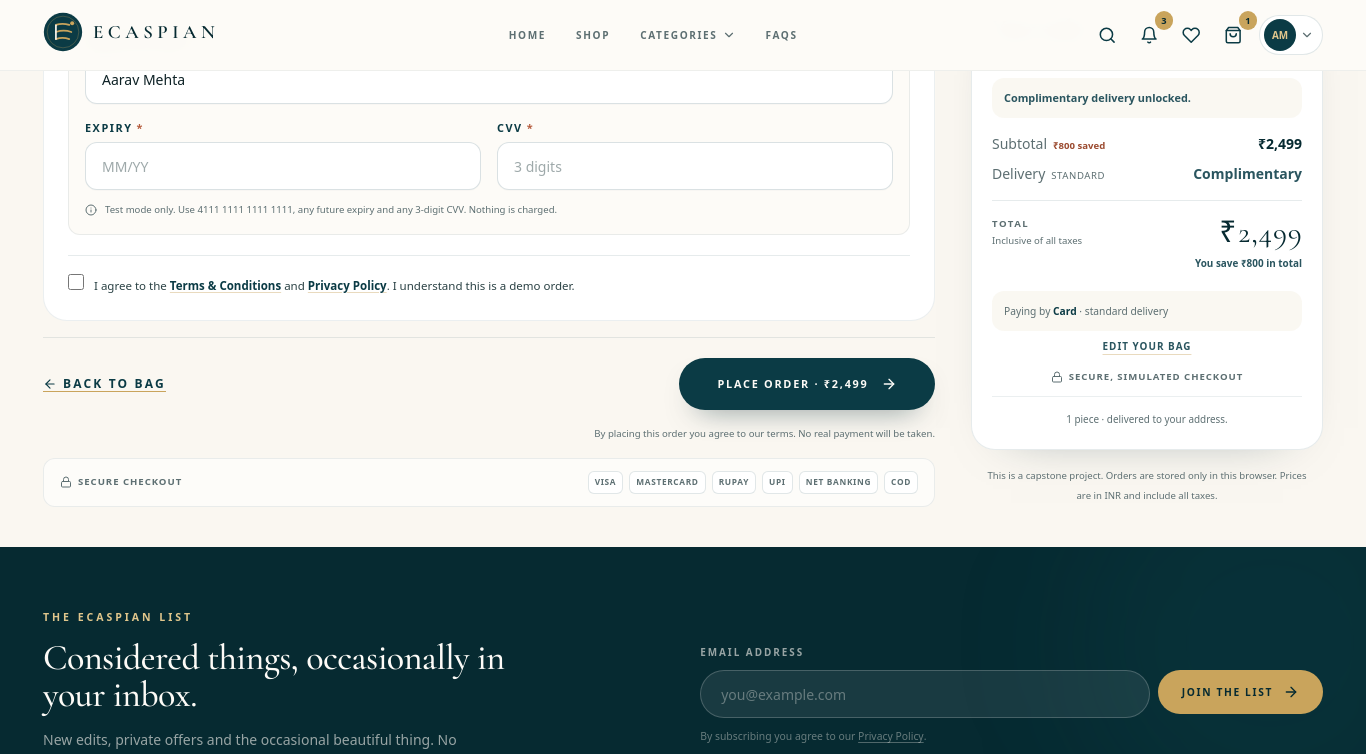
Test case: checkout flow › blocks an incomplete order and explains what is missing
(page scrolled)
Click the button "Place order · ₹2,499" at (807, 384), box [679,358,935,410]
(page scrolled)
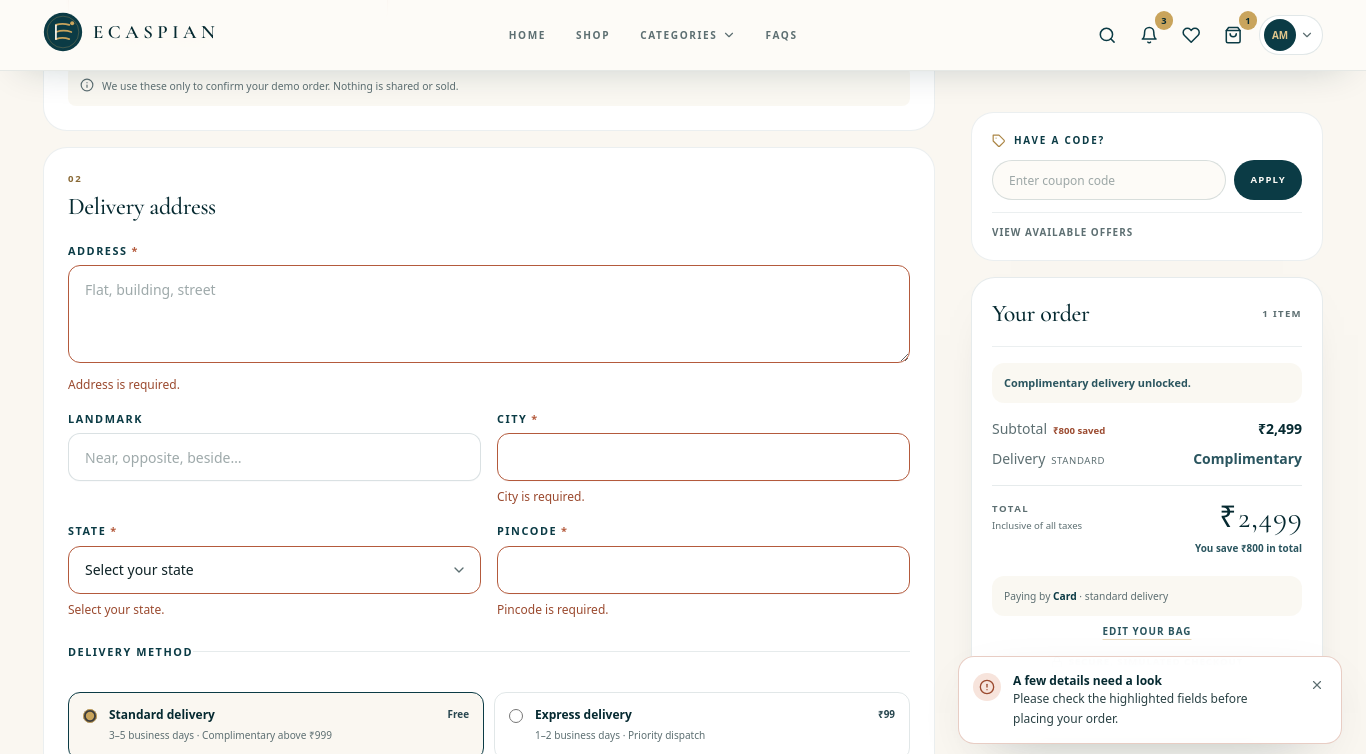
Expected: the text "Phone number is required." is shown, [68,31,219,48]
Expected: the text "Address is required." is shown, [68,376,180,393]
